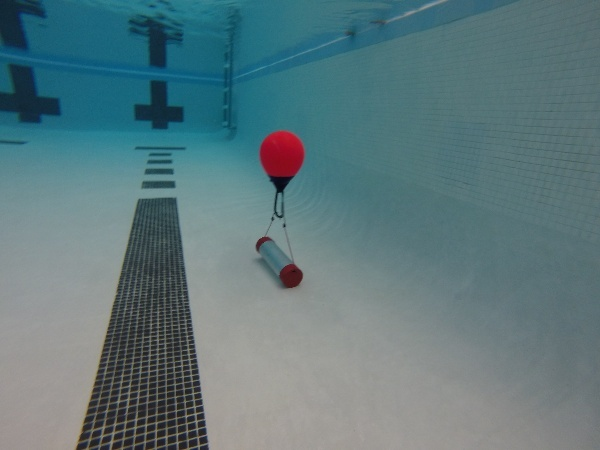buoy_red: (258, 128, 305, 193)
